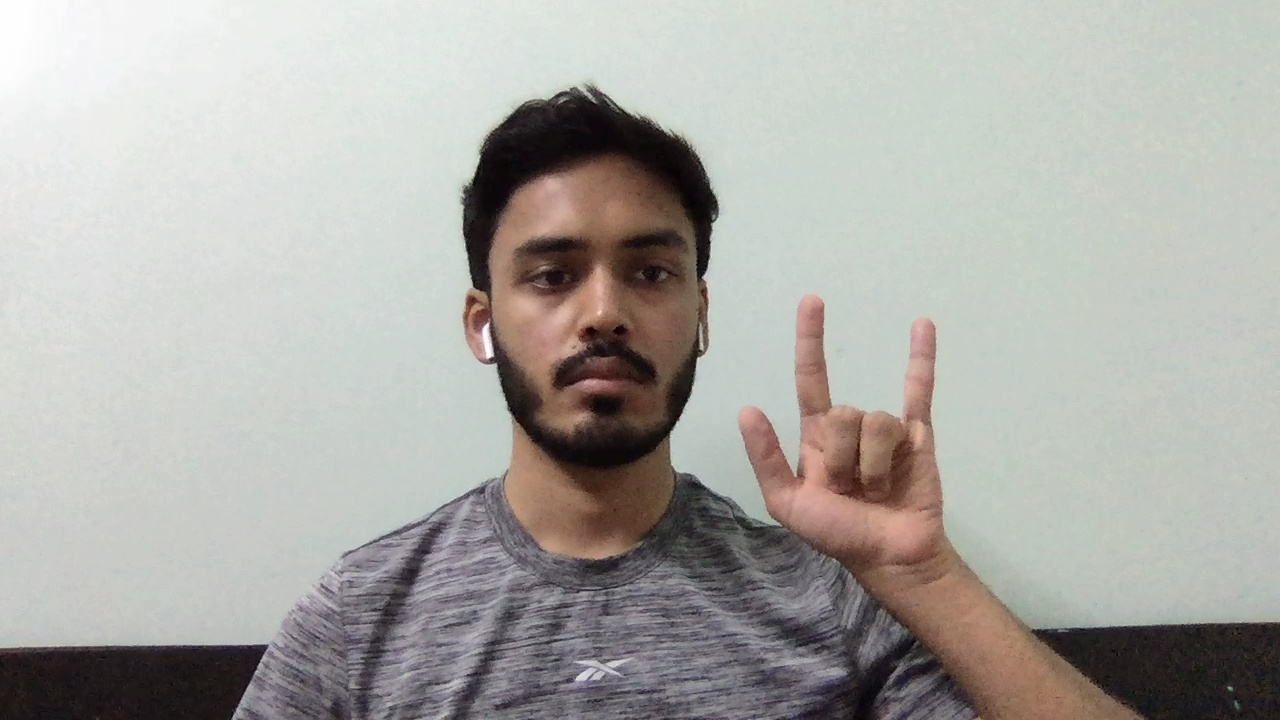I Love You: (717, 287, 981, 563)
